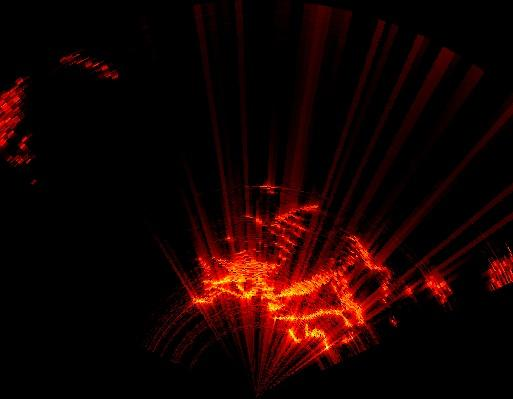shipwreck: (195, 256, 364, 349), (244, 200, 317, 269), (352, 237, 390, 297)
